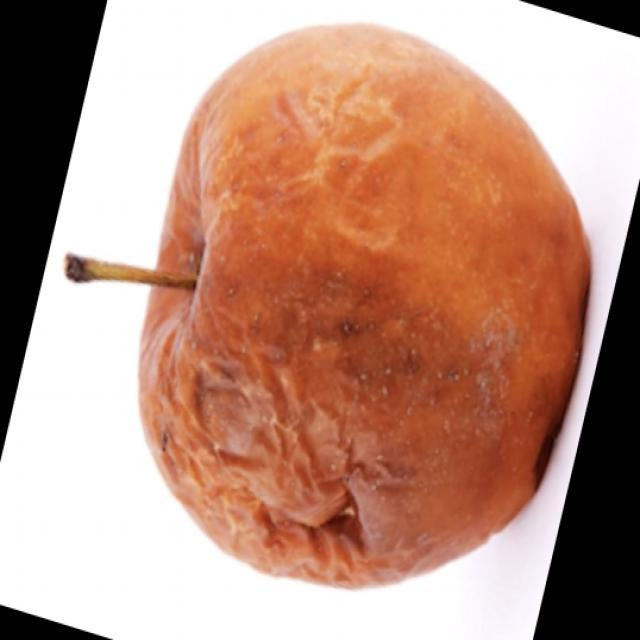Rotten: (134, 28, 594, 555)
